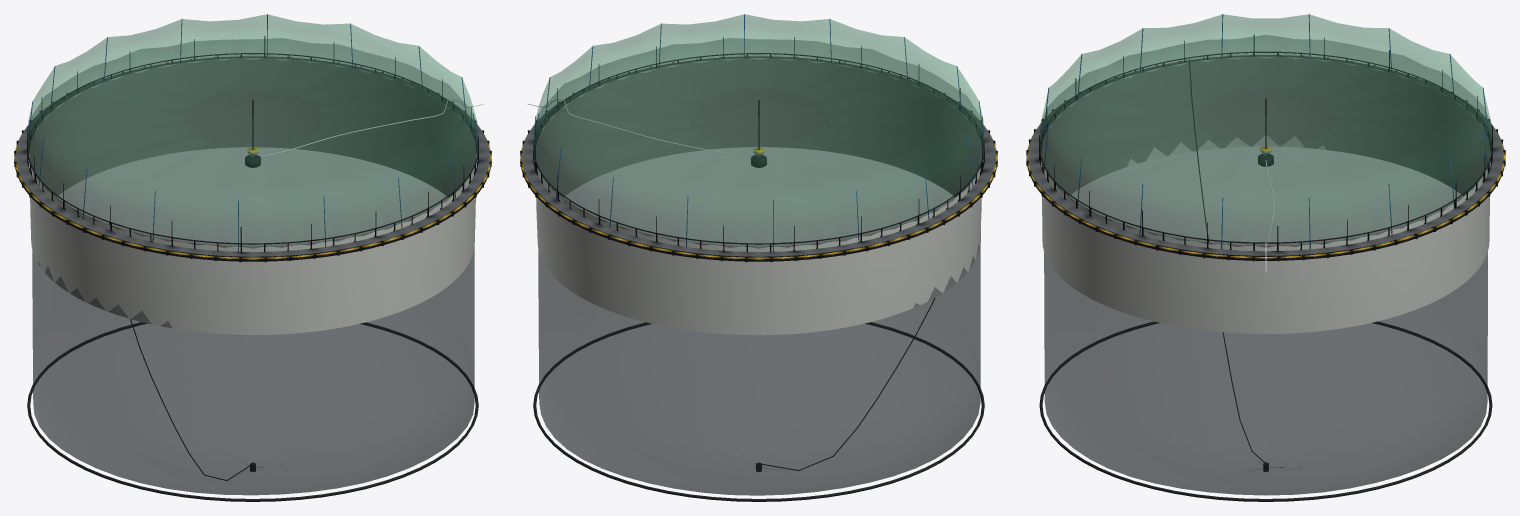
The model's file is pen_cage_LOD1.glb.
The picture shows the model from 3 angles, left to right: view 1: azimuth 30°, elevation 25°; view 2: azimuth 150°, elevation 25°; view 3: azimuth 270°, elevation 25°; orthographic projection.
Visible parts, largest first — view 1: Net, BirdNetRim, LiceSkirt, BirdNet, Walkway, SinkerTube, Handrail, Collar, Band, BirdNetRimPoles, BirdNetPoles; view 2: Net, BirdNetRim, LiceSkirt, BirdNet, Walkway, SinkerTube, Handrail, Collar, Band, BirdNetRimPoles, BirdNetPoles; view 3: Net, BirdNetRim, LiceSkirt, BirdNet, Walkway, SinkerTube, Handrail, Collar, Band, BirdNetRimPoles, BirdNetPoles.
Part boxes in pixels (bbox=[...]): Net: bbox=[29, 54, 476, 495]; BirdNetRim: bbox=[28, 14, 477, 242]; LiceSkirt: bbox=[29, 58, 476, 334]; BirdNet: bbox=[28, 38, 477, 242]; Walkway: bbox=[16, 56, 489, 256]; SinkerTube: bbox=[27, 223, 478, 501]; Handrail: bbox=[27, 53, 478, 251]; Collar: bbox=[14, 57, 491, 262]; Band: bbox=[14, 133, 491, 259]; BirdNetRimPoles: bbox=[28, 14, 478, 251]; BirdNetPoles: bbox=[27, 36, 478, 251]; Net: bbox=[536, 54, 982, 495]; BirdNetRim: bbox=[534, 14, 983, 242]; LiceSkirt: bbox=[536, 58, 981, 335]; BirdNet: bbox=[534, 38, 983, 242]; Walkway: bbox=[522, 56, 995, 256]; SinkerTube: bbox=[533, 166, 984, 501]; Handrail: bbox=[533, 53, 984, 251]; Collar: bbox=[520, 57, 997, 262]; Band: bbox=[520, 133, 997, 259]; BirdNetRimPoles: bbox=[533, 14, 984, 251]; BirdNetPoles: bbox=[535, 37, 982, 250]; Net: bbox=[1041, 53, 1490, 495]; BirdNetRim: bbox=[1040, 14, 1491, 242]; LiceSkirt: bbox=[1042, 56, 1489, 333]; BirdNet: bbox=[1040, 35, 1491, 241]; Walkway: bbox=[1028, 55, 1503, 255]; SinkerTube: bbox=[1039, 59, 1492, 501]; Handrail: bbox=[1040, 51, 1492, 250]; Collar: bbox=[1026, 54, 1505, 261]; Band: bbox=[1027, 134, 1504, 258]; BirdNetRimPoles: bbox=[1043, 14, 1488, 249]; BirdNetPoles: bbox=[1039, 34, 1492, 250].
Size of the model in its own units: 56.85 by 46 by 53.71.
